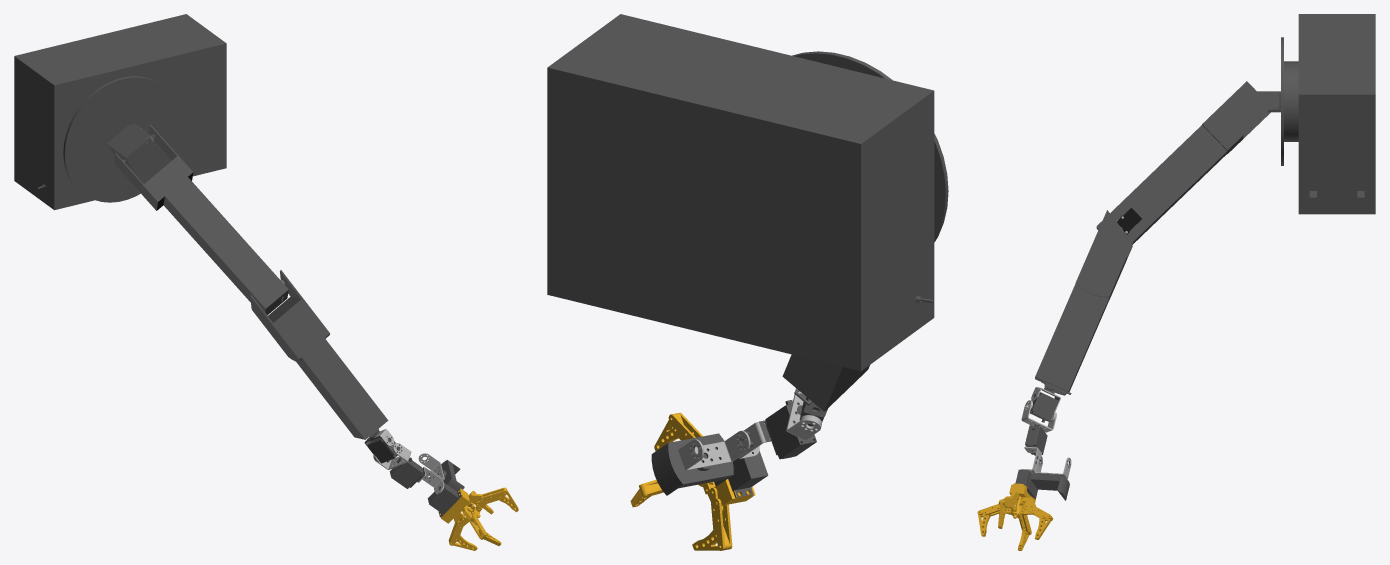
File: Robotic_arm_final.obj
The picture shows the model from 3 angles, left to right: view 1: azimuth 30°, elevation 25°; view 2: azimuth 150°, elevation 25°; view 3: azimuth 270°, elevation 25°; orthographic projection. The views are drawn at different scales.
Visible parts, largest first — view 1: Body1, Body1:1, Body1:2, Body1:3, Body45, Body3:1, Body3; view 2: Body1, Body3:1, Body45, Body1:3, Body1:1, Body6; view 3: Body1, Body1:2, Body1:3, Body45, Body3:1, Body3, Body1:1.
Boxes of the visible parts, x1,y1,x2,y2 form: Body1: (14, 14, 226, 210); Body1:1: (63, 76, 181, 202); Body1:2: (114, 124, 288, 314); Body1:3: (250, 270, 388, 439); Body45: (427, 482, 518, 550); Body3:1: (389, 453, 464, 494); Body3: (364, 429, 398, 463); Body1: (547, 14, 934, 371); Body3:1: (651, 400, 816, 495); Body45: (630, 412, 768, 550); Body1:3: (782, 354, 869, 411); Body1:1: (792, 51, 948, 242); Body6: (786, 388, 821, 440); Body1: (1284, 14, 1375, 214); Body1:2: (1096, 81, 1272, 244); Body1:3: (1035, 210, 1132, 395); Body45: (977, 469, 1053, 550); Body3:1: (1021, 424, 1071, 500); Body3: (1030, 387, 1060, 422); Body1:1: (1257, 37, 1283, 165).
Bounding box in the file's own units: 60.72 × 77.98 × 68.93.
